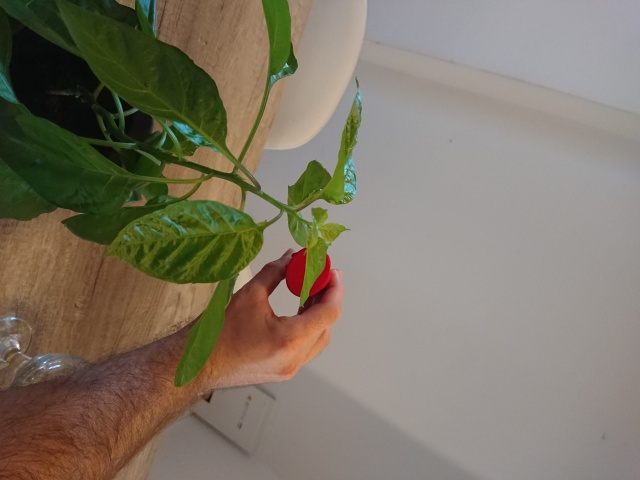Kotanyi Curry Spices Mix 70g: (283, 244, 334, 300)
